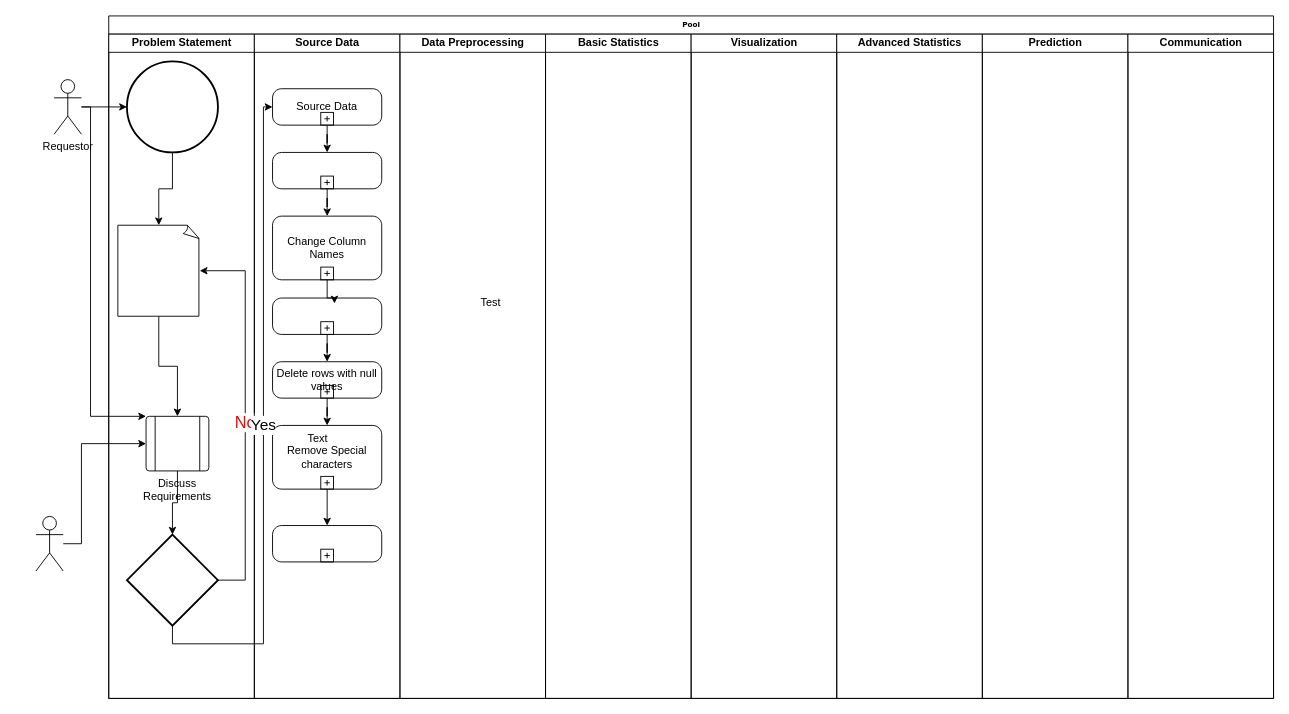
The diagram is 1289 pixels wide and 714 high, and some of its shapes have lost their labels. Each missing label, with the centre of its shape:
Both parties understand ask?: (x=172, y=579)
Data Scientist: (x=49, y=543)
Find Nulls: (x=327, y=315)
Preview Data: (x=327, y=170)
Problem Statement Submitted: (x=172, y=106)
Requirements or Revised Requirements: (x=158, y=270)
Save Data: (x=327, y=543)
